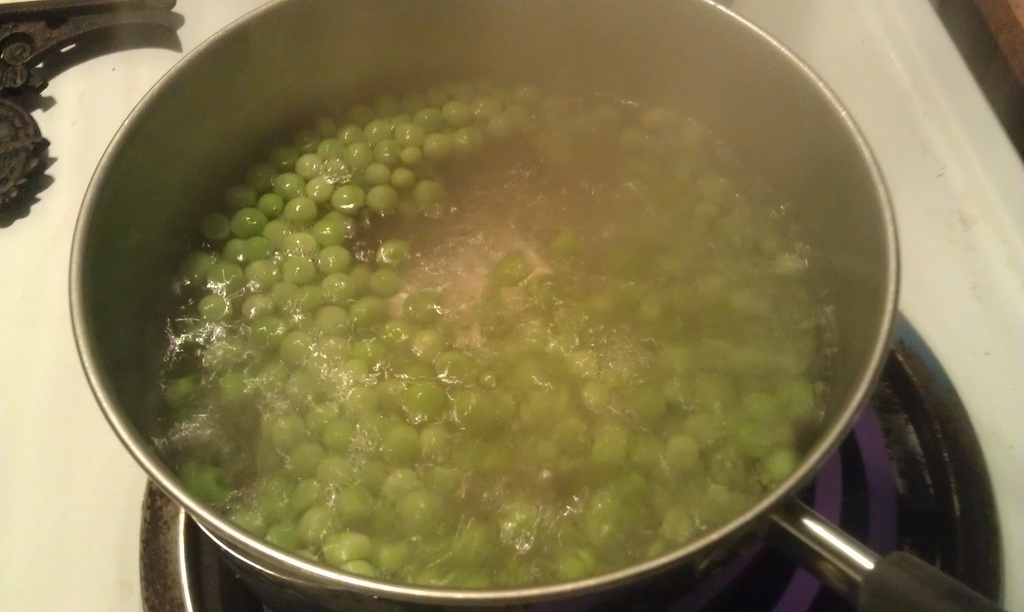boiled peas: (206, 73, 546, 369)
